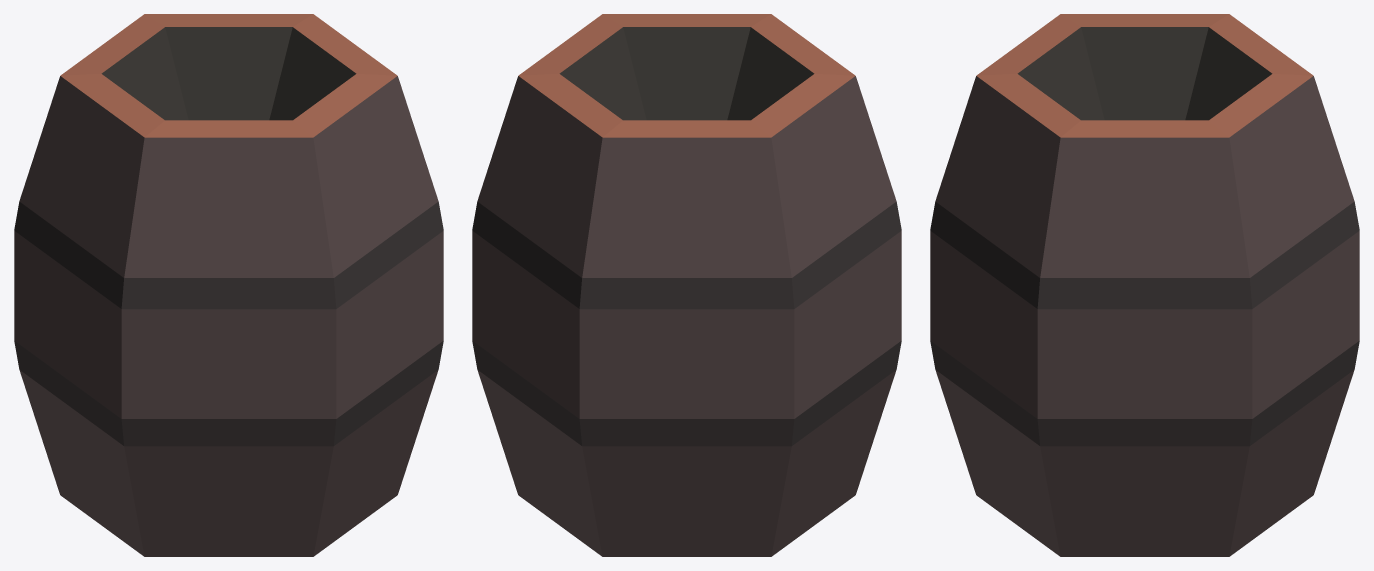
The model's file is TB_D_Prop_Barrel_Open_C.FBX.
3 views of the same model, side by side, from view 1: azimuth 30°, elevation 25°; view 2: azimuth 150°, elevation 25°; view 3: azimuth 270°, elevation 25° (orthographic).
Visible parts, largest first — view 1: TB_D_Prop_Barrel_Open_C; view 2: TB_D_Prop_Barrel_Open_C; view 3: TB_D_Prop_Barrel_Open_C.
Part boxes in pixels (<box>): TB_D_Prop_Barrel_Open_C: <box>14,14,443,556</box>; TB_D_Prop_Barrel_Open_C: <box>472,14,901,556</box>; TB_D_Prop_Barrel_Open_C: <box>930,14,1359,556</box>.
Size of the model in its own units: 0.9026 by 1.13 by 1.04.
